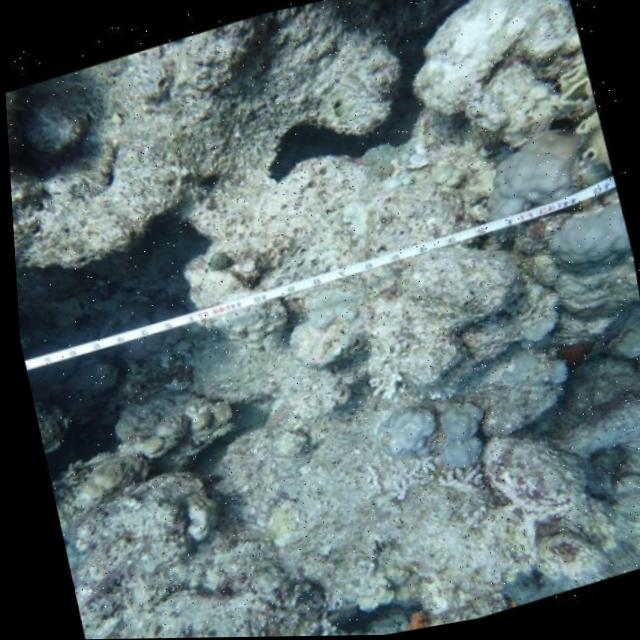Bleached Coral: (335, 341, 424, 418), (195, 595, 352, 638)
